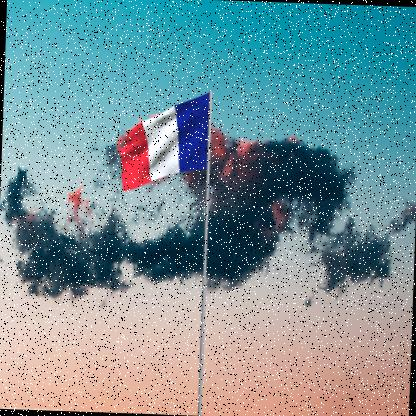fr: (118, 92, 211, 197)
